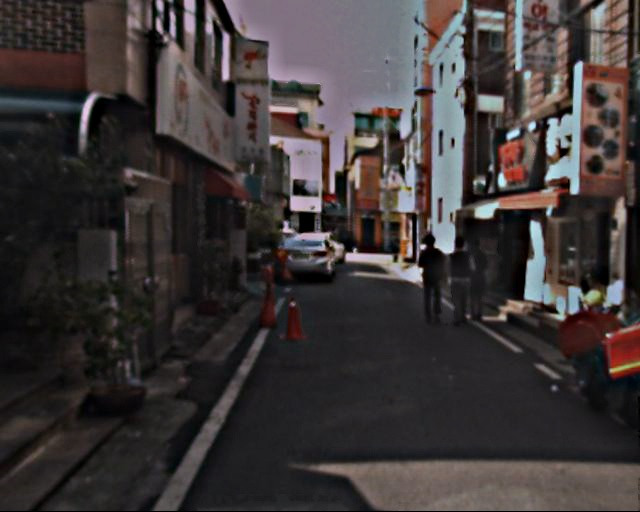person: (418, 232, 457, 327), (445, 236, 483, 328), (464, 235, 500, 323)
